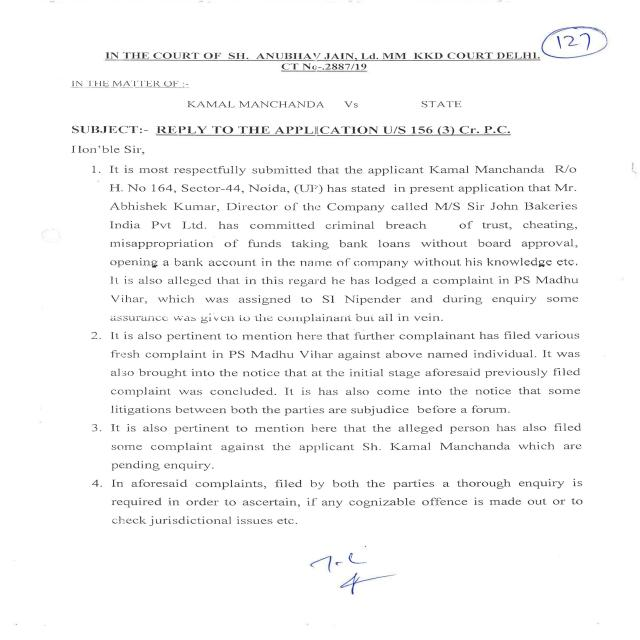page-number: (540, 2, 640, 112)
